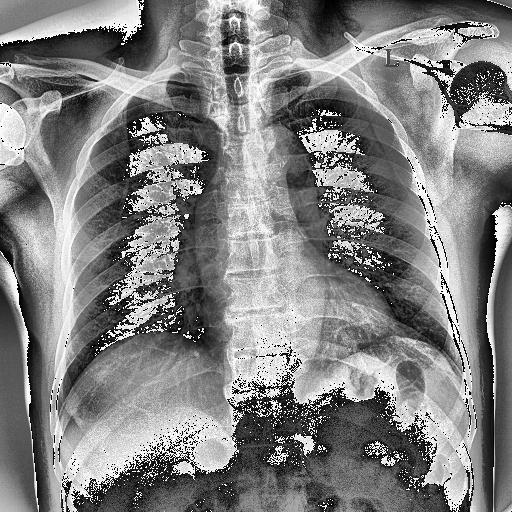0- Aortic enlargement: (154, 88, 354, 357), (180, 166, 354, 256), (182, 127, 322, 223)
3- Cardiomegaly: (170, 272, 426, 353)
